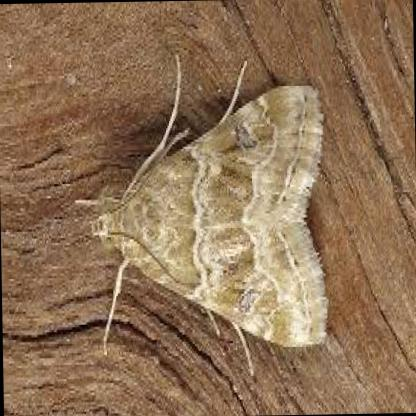Hellula undalis: (71, 48, 327, 386)
